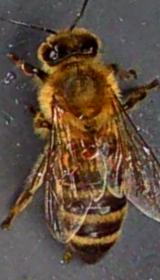varroa_mite: (76, 139, 100, 161)
